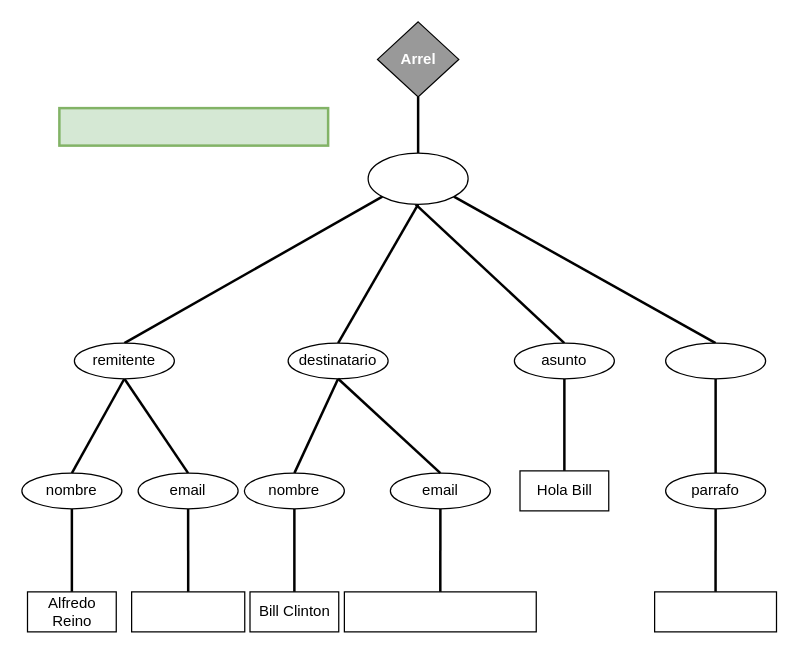
This 799x654 diagram has some shape labels left out. The centre of each missing label's shape, as x and y in pixels:
alf@ibium.com: (187,611)
mensaje: (417,178)
Narcís Carol Costajussà: (193,126)
president@whitehouse.gov: (439,611)
texto: (715,360)
¿Hola qué tal?: (714,611)
